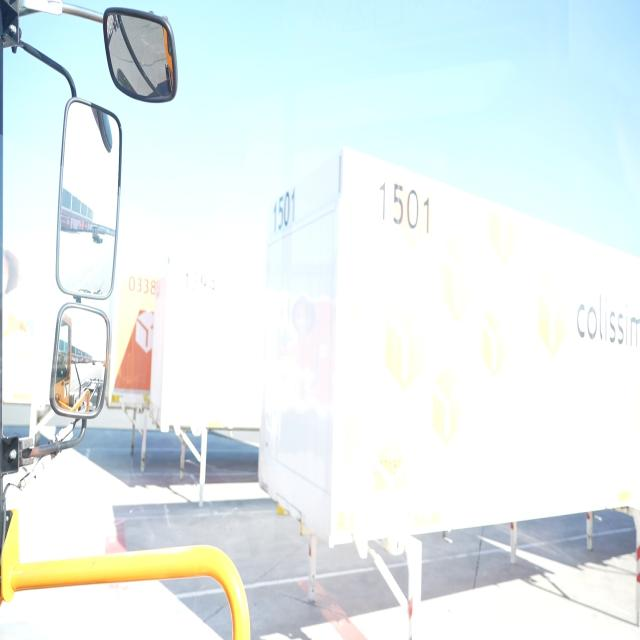Code: (375, 165, 435, 246), (266, 179, 301, 235), (124, 266, 163, 302)
